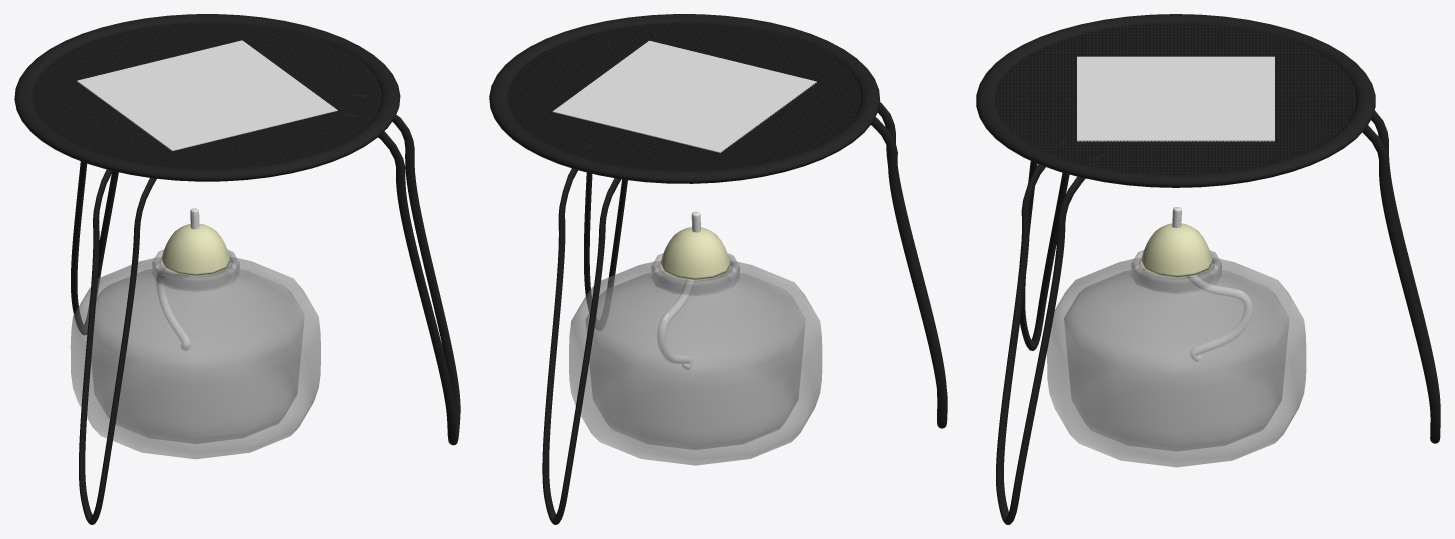
3 views of the same model, side by side, from view 1: azimuth 30°, elevation 25°; view 2: azimuth 150°, elevation 25°; view 3: azimuth 270°, elevation 25° (orthographic). The views are drawn at different scales.
Parts seen in each view (by area): view 1: polySurface6, polySurface228, polySurface7, polySurface230, polySurface226, polySurface4, polySurface227, polySurface5; view 2: polySurface6, polySurface228, polySurface7, polySurface227, polySurface226, polySurface4, polySurface230, polySurface5; view 3: polySurface6, polySurface228, polySurface7, polySurface230, polySurface227, polySurface4, polySurface226, polySurface5, polySurface130, polySurface132, polySurface211, polySurface151.
Boxes of the visible parts, x1,y1,x2,y2 form: polySurface6: (70, 249, 320, 459); polySurface228: (77, 40, 337, 150); polySurface7: (14, 14, 400, 181); polySurface230: (342, 94, 460, 445); polySurface226: (79, 169, 156, 524); polySurface4: (161, 223, 230, 276); polySurface227: (71, 36, 157, 334); polySurface5: (156, 208, 199, 350); polySurface6: (569, 253, 822, 465); polySurface228: (552, 40, 816, 152); polySurface7: (489, 14, 880, 183); polySurface227: (542, 145, 630, 524); polySurface226: (871, 102, 947, 428); polySurface4: (660, 227, 730, 280); polySurface230: (584, 32, 656, 312); polySurface5: (657, 211, 700, 369); polySurface6: (1047, 250, 1306, 467); polySurface228: (1077, 56, 1274, 141); polySurface7: (976, 14, 1375, 187); polySurface230: (996, 140, 1104, 524); polySurface227: (1321, 89, 1440, 443); polySurface4: (1140, 223, 1212, 277); polySurface226: (1019, 161, 1069, 350); polySurface5: (1172, 207, 1252, 361); polySurface130: (1047, 151, 1305, 153); polySurface132: (1040, 148, 1312, 150); polySurface211: (1048, 44, 1303, 46); polySurface151: (1026, 141, 1325, 142).
Size of the model in its own units: 38.69 by 33.69 by 40.73.
